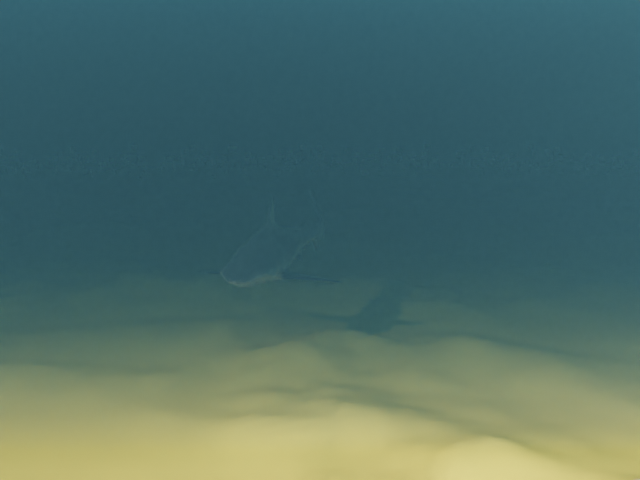Carribean Shark.001: (197, 189, 343, 287)
